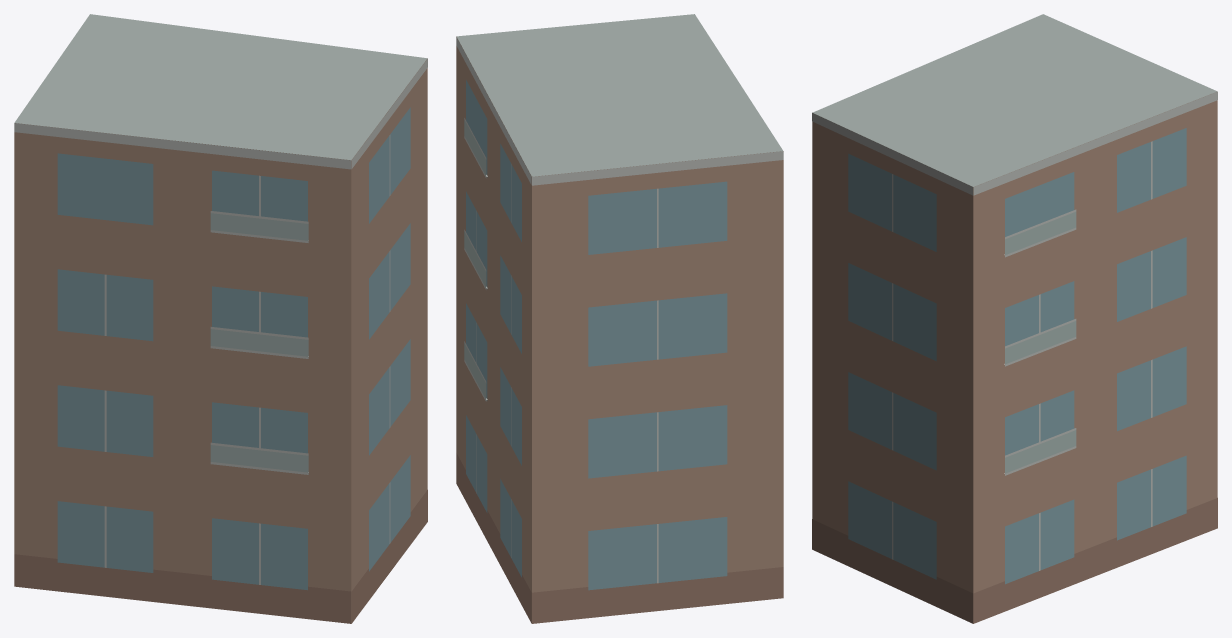
The model's file is survey-upis-32643588.glb.
The picture shows the model from 3 angles, left to right: view 1: azimuth 30°, elevation 25°; view 2: azimuth 150°, elevation 25°; view 3: azimuth 270°, elevation 25°; orthographic projection. The views are drawn at different scales.
Parts seen in each view (by area): view 1: survey-upis-32643588.tmp; view 2: survey-upis-32643588.tmp; view 3: survey-upis-32643588.tmp.
Part boxes in pixels (bbox=[...]): survey-upis-32643588.tmp: bbox=[14, 14, 427, 623]; survey-upis-32643588.tmp: bbox=[456, 14, 783, 623]; survey-upis-32643588.tmp: bbox=[812, 14, 1217, 623].
Bounding box in the file's own units: 10.37 × 12.2 × 10.27.
